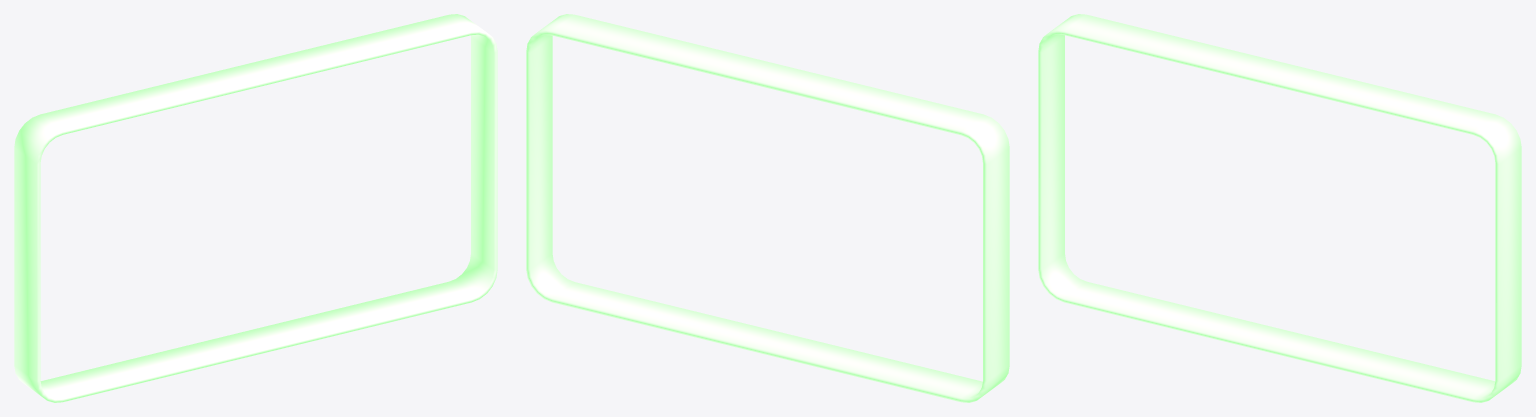
Rendered from White.glb.
3 views of the same model, side by side, from view 1: azimuth 30°, elevation 25°; view 2: azimuth 150°, elevation 25°; view 3: azimuth 330°, elevation 25° (orthographic).
Visible parts, largest first — view 1: Plane; view 2: Plane; view 3: Plane.
Part boxes in pixels (x1=…): Plane: x1=14, y1=14, x2=497, y2=402; Plane: x1=526, y1=14, x2=1009, y2=402; Plane: x1=1038, y1=14, x2=1521, y2=402.
Bounding box in the file's own units: 3.56 × 2 × 0.3.
